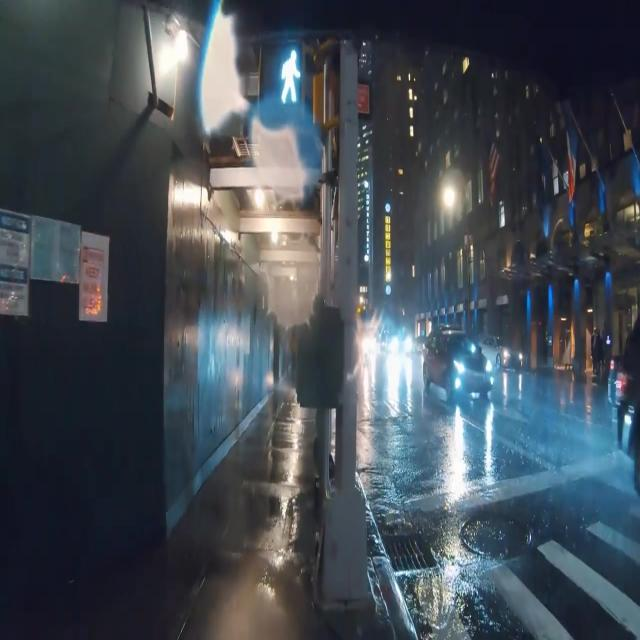Car: (422, 325, 491, 399)
